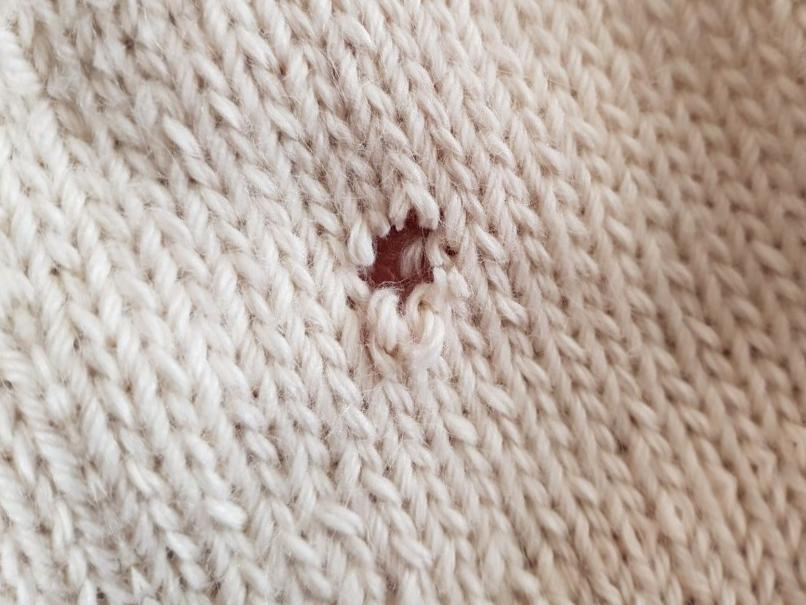hole: (352, 195, 460, 322)
